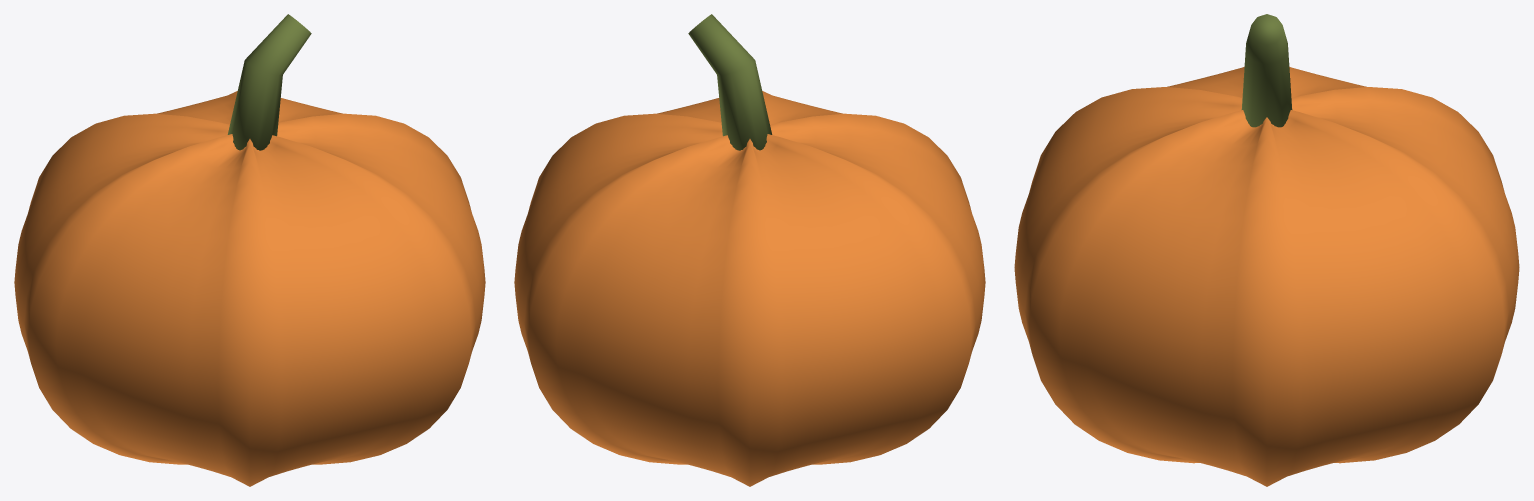
File: pumpkin_small.glb
3 views of the same model, side by side, from view 1: azimuth 30°, elevation 25°; view 2: azimuth 150°, elevation 25°; view 3: azimuth 270°, elevation 25° (orthographic). The views are drawn at different scales.
Parts seen in each view (by area): view 1: LH_pumpkin_small; view 2: LH_pumpkin_small; view 3: LH_pumpkin_small.
Boxes of the visible parts, bbox=[...] form: LH_pumpkin_small: bbox=[14, 14, 485, 486]; LH_pumpkin_small: bbox=[514, 14, 985, 486]; LH_pumpkin_small: bbox=[1014, 14, 1519, 486].
Bounding box in the file's own units: 0.16 × 0.1485 × 0.1472.
